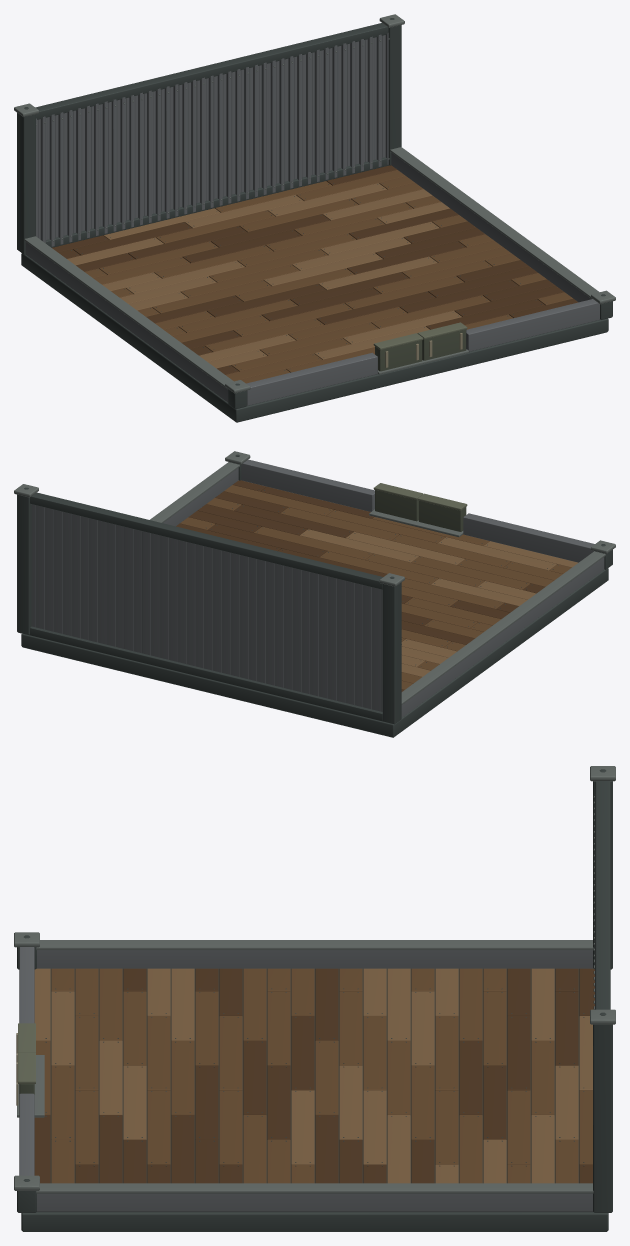
File: RoomShell02.fbx
3 views of the same model, one above another, from view 1: azimuth 30°, elevation 25°; view 2: azimuth 150°, elevation 25°; view 3: azimuth 270°, elevation 25° (orthographic). The views are drawn at different scales.
Visible parts, largest first — view 1: RoomShell02.001; view 2: RoomShell02.001; view 3: RoomShell02.001.
Part boxes in pixels (x1,y1,x2,y2): RoomShell02.001: [14, 14, 615, 422]; RoomShell02.001: [14, 451, 615, 737]; RoomShell02.001: [14, 766, 615, 1231].
Size of the model in its own units: 627 by 249 by 627.
